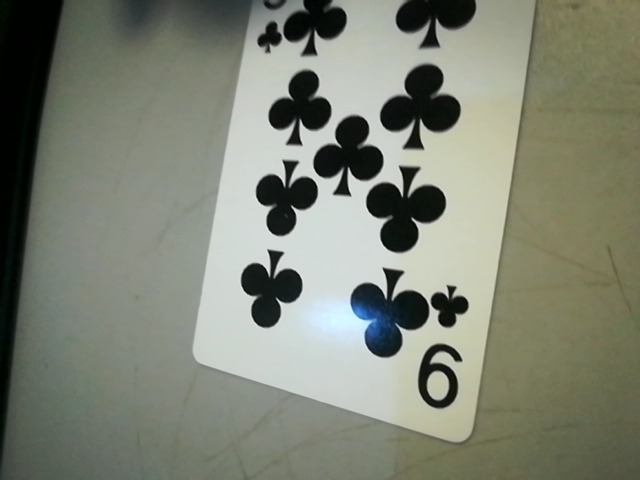mh 9: (412, 283, 479, 417)
